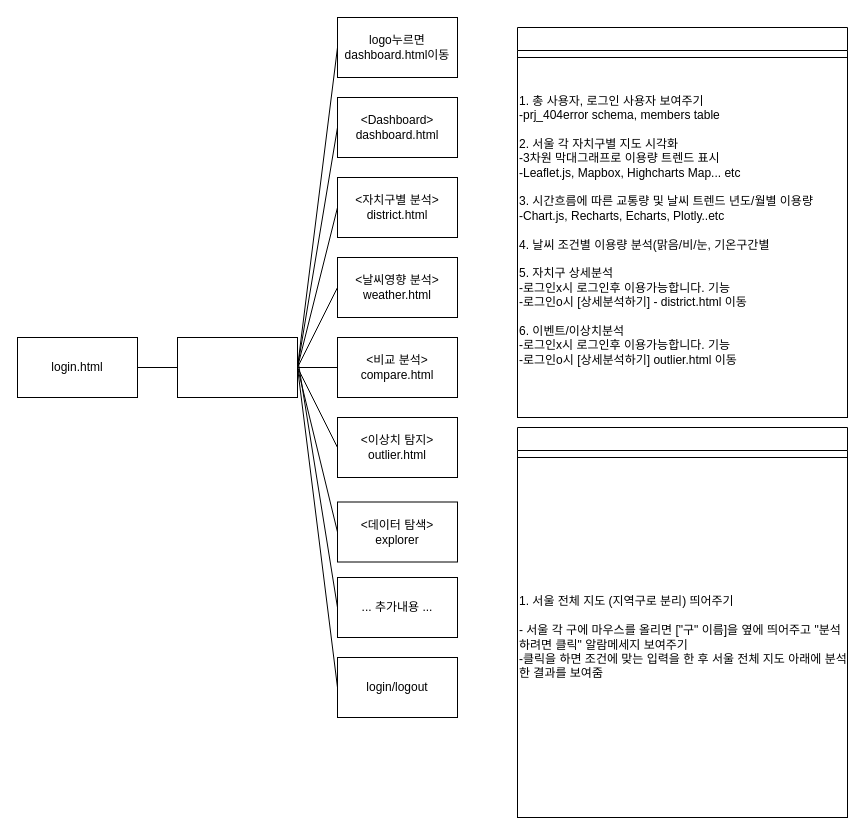
Some shapes in this 865 by 835 pixel diagram are drawn without their labels. Here are the shapes that lost their labels. From the top down, the box of each, then its label:
(516, 26, 848, 418): dashboard.html
(176, 336, 298, 398): main.html welcome message 이후 자동으로 dashboard.html 이동
(516, 426, 848, 818): district.html
